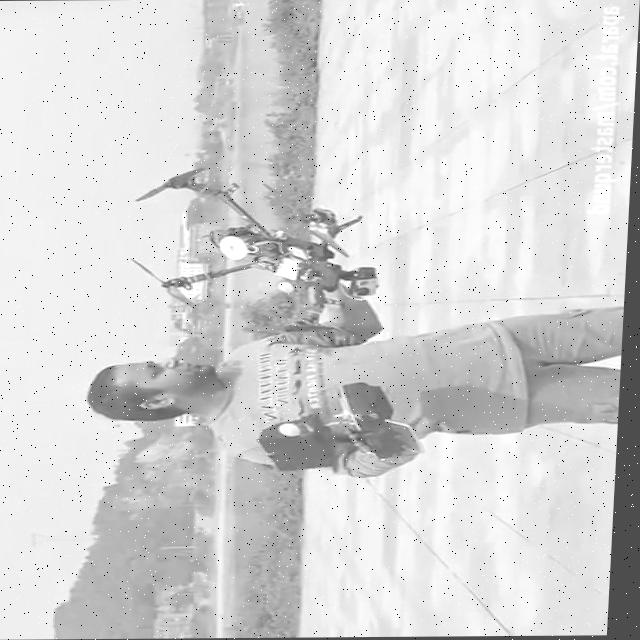drone: (125, 158, 397, 337)
